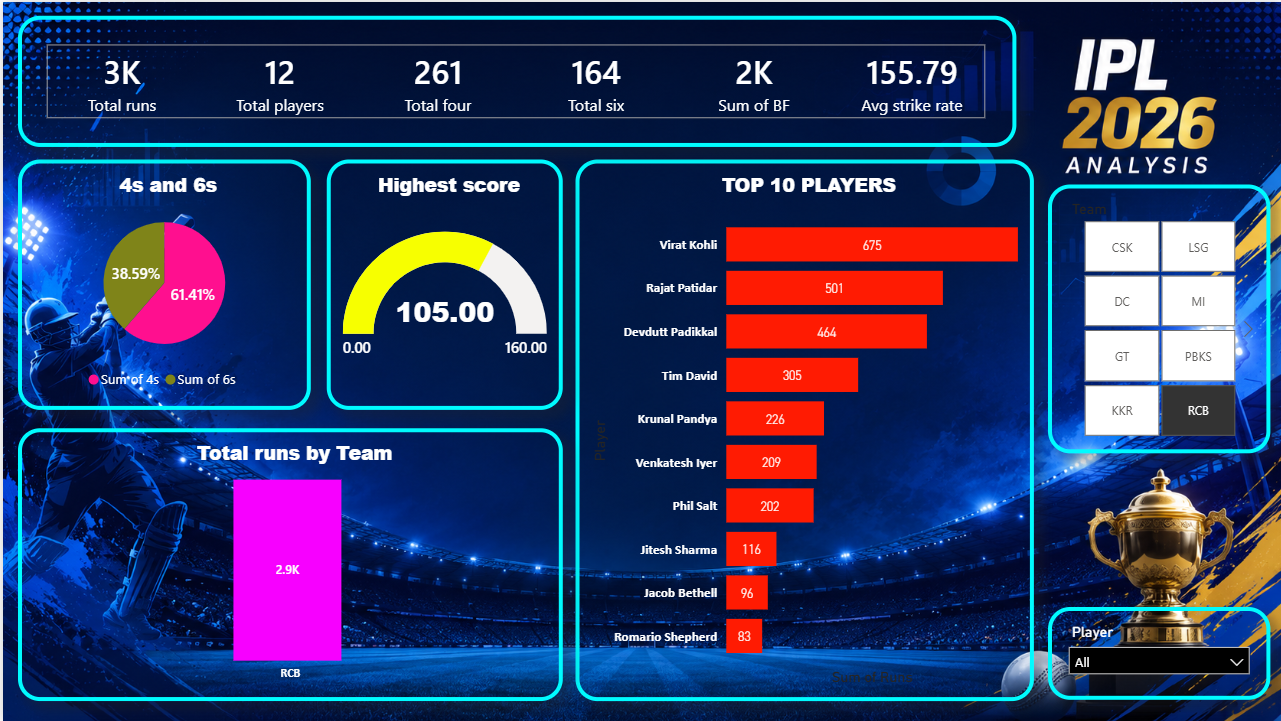

Layout of this report page (visuals, bound fields, positions):
{"tool":"powerbi","page":{"name":"Page 1","canvas":[1280,720],"ordinal":0},"visuals":[{"type":"barChart","title":"TOP 10 PLAYERS","fields":{"Category":["IPL2026.Player"],"Y":["Sum(IPL2026.Runs)"]},"box":[572.4,156.9,458.6,541.4],"z":0},{"type":"pieChart","title":"4s and 6s","fields":{"Y":["Sum(IPL2026.4s)","Sum(IPL2026.6s)"]},"box":[15,157.5,292.5,250],"z":1000},{"type":"columnChart","fields":{"Category":["IPL2026.Team"],"Y":["IPL2026.Total runs"]},"box":[15.5,425.9,544.8,272.4],"z":2000},{"type":"cardVisual","fields":{"Data":["IPL2026.Total runs","IPL2026.Total players","IPL2026.Total four","IPL2026.Total six","Sum(IPL2026.BF)","IPL2026.Avg strike rate"]},"box":[15.5,13.8,998.3,131],"z":3000},{"type":"slicer","fields":{"Values":["IPL2026.Team"]},"box":[1044.8,182.8,222.4,269],"z":4000},{"type":"slicer","title":"PLAYERS","fields":{"Values":["IPL2026.Player"]},"box":[1044.8,605.2,222.4,93.1],"z":5000},{"type":"gauge","fields":{"Y":["IPL2026.Highest score"]},"box":[323.8,157.5,236.2,250],"z":7000}]}

Visuals, with their boxes in screenshot pixels (x1, y1, x2, y2), scaled from the page's 1280x720 canvas onto the 1281x721 screenshot:
"TOP 10 PLAYERS" barChart: crop(573, 157, 1032, 699)
"4s and 6s" pieChart: crop(15, 158, 308, 408)
columnChart - IPL2026.Team x IPL2026.Total runs: crop(16, 426, 561, 699)
cardVisual - IPL2026.Total runs x IPL2026.Total players: crop(16, 14, 1015, 145)
slicer - IPL2026.Team: crop(1046, 183, 1268, 452)
"PLAYERS" slicer: crop(1046, 606, 1268, 699)
gauge - IPL2026.Highest score: crop(324, 158, 560, 408)
